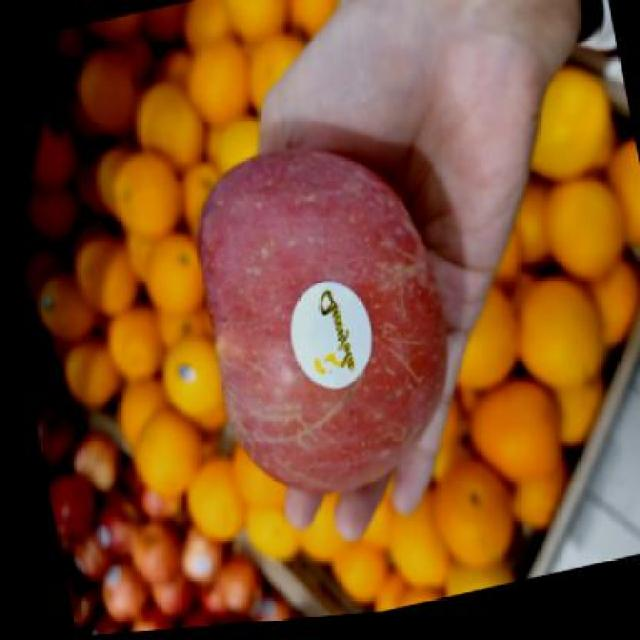Fresh Apple: (190, 150, 444, 494)
